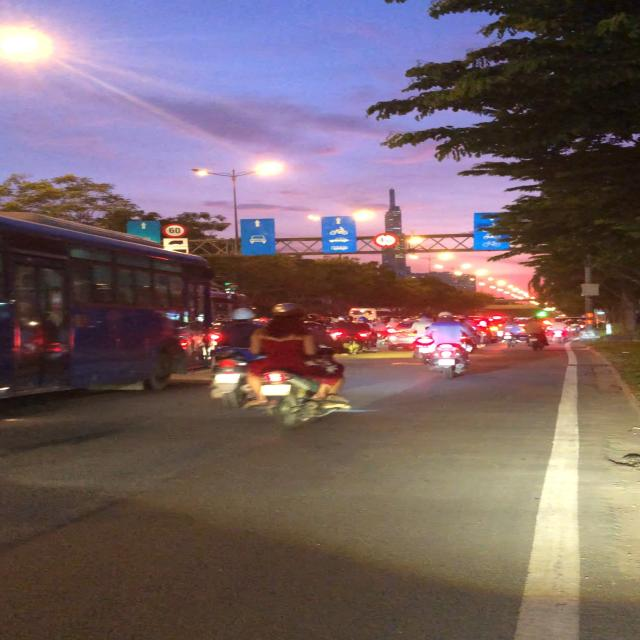Bien bao han che chieu cao: (368, 232, 405, 248)
Bien bao toc do toi da cho phep: (159, 223, 194, 238)
